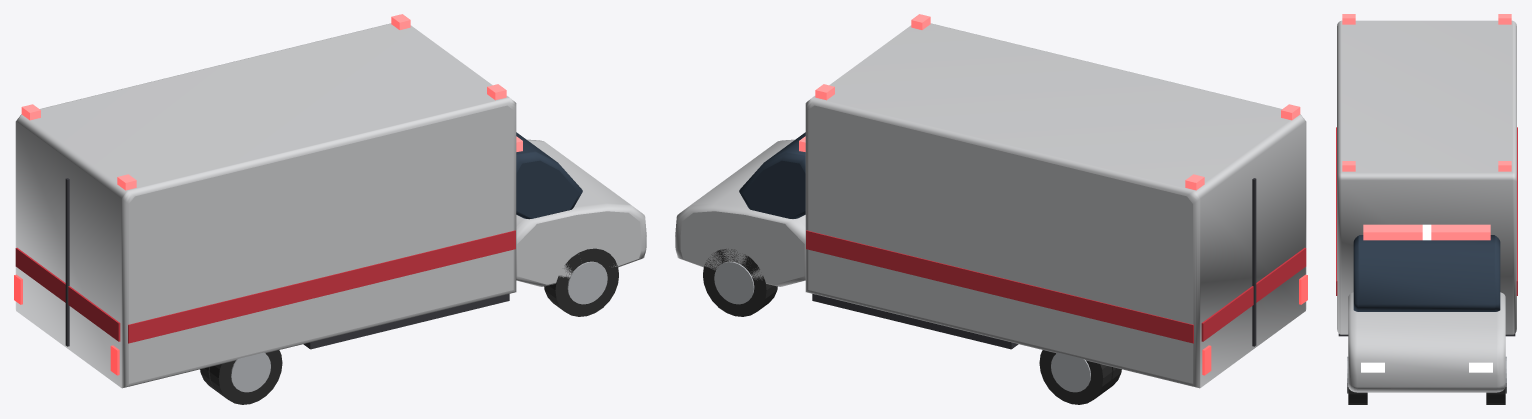
Rendered from ambulance.glb.
3 renders of one model, left to right at view 1: azimuth 30°, elevation 25°; view 2: azimuth 150°, elevation 25°; view 3: azimuth 270°, elevation 25°, orthographic. The views are drawn at different scales.
Size of the model in its own units: 6.76 by 2.99 by 2.42.
